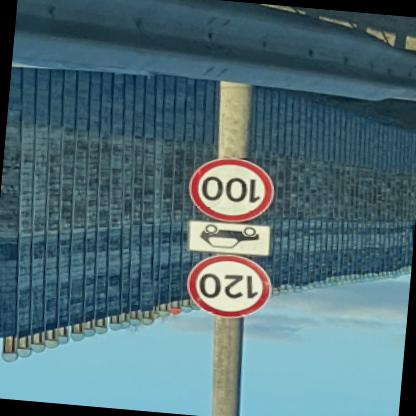speedlimit: (187, 155, 278, 226), (187, 253, 275, 322)
